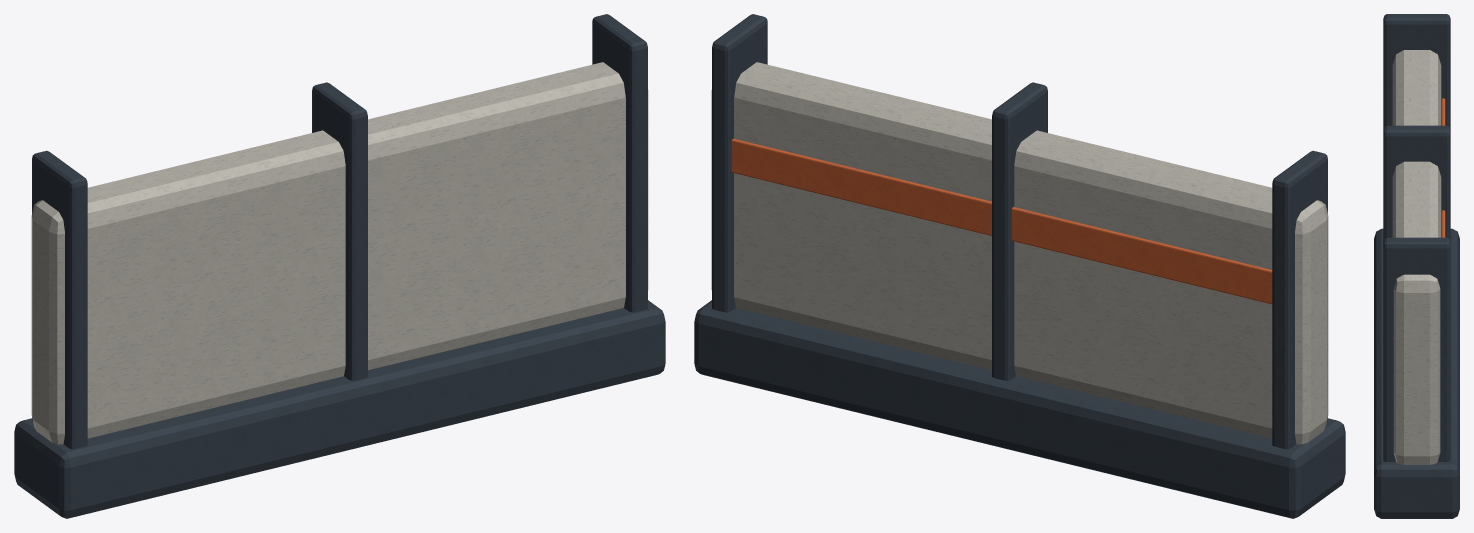
The model's file is perimeter-wall.glb.
3 views of the same model, side by side, from view 1: azimuth 30°, elevation 25°; view 2: azimuth 150°, elevation 25°; view 3: azimuth 270°, elevation 25° (orthographic). The views are drawn at different scales.
Parts seen in each view (by area): view 1: Wall armor, Assembly_Graphite_frame; view 2: Wall armor, Assembly_Graphite_frame, Safety band; view 3: Assembly_Graphite_frame, Wall armor, Safety band.
Boxes of the visible parts, x1=… form: Wall armor: x1=31, y1=62, x2=648, y2=444; Assembly_Graphite_frame: x1=14, y1=14, x2=665, y2=518; Wall armor: x1=711, y1=62, x2=1328, y2=444; Assembly_Graphite_frame: x1=694, y1=14, x2=1345, y2=518; Safety band: x1=731, y1=138, x2=1272, y2=304; Assembly_Graphite_frame: x1=1374, y1=14, x2=1459, y2=518; Wall armor: x1=1392, y1=50, x2=1441, y2=464; Safety band: x1=1441, y1=98, x2=1445, y2=237.
Size of the model in its own units: 4 by 2.11 by 0.6.
3 materials, 3 textured.
